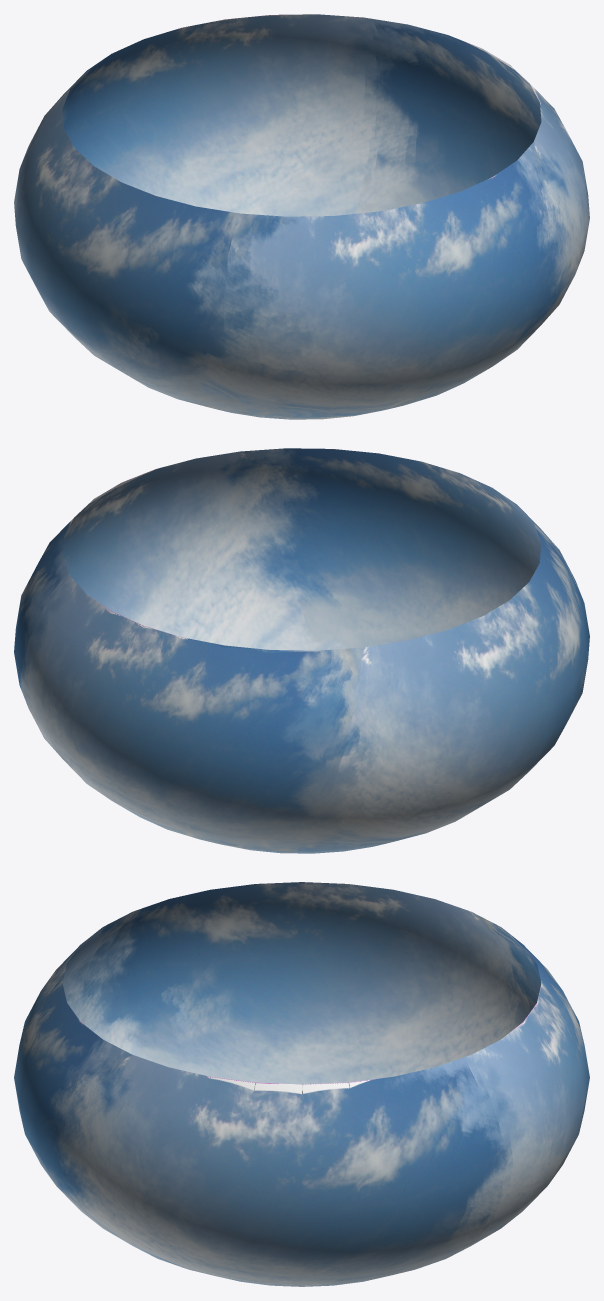
Rendered from skydome.FBX.
3 renders of one model, top to bottom at view 1: azimuth 30°, elevation 25°; view 2: azimuth 150°, elevation 25°; view 3: azimuth 270°, elevation 25°, orthographic.
Parts seen in each view (by area): view 1: Sphere01; view 2: Sphere01; view 3: Sphere01.
Part boxes in pixels (box(x1,y1,x2,y2)): Sphere01: box(14, 14, 589, 419); Sphere01: box(14, 448, 589, 853); Sphere01: box(14, 882, 589, 1286).
Size of the model in its own units: 776 by 776 by 394.
Materials: 1 (1 with a texture image).
